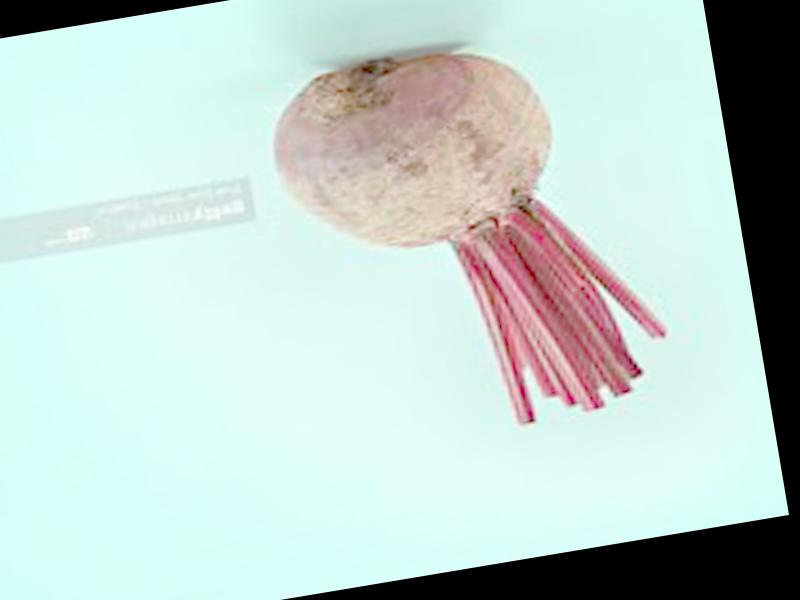Beet: (261, 19, 674, 454)
